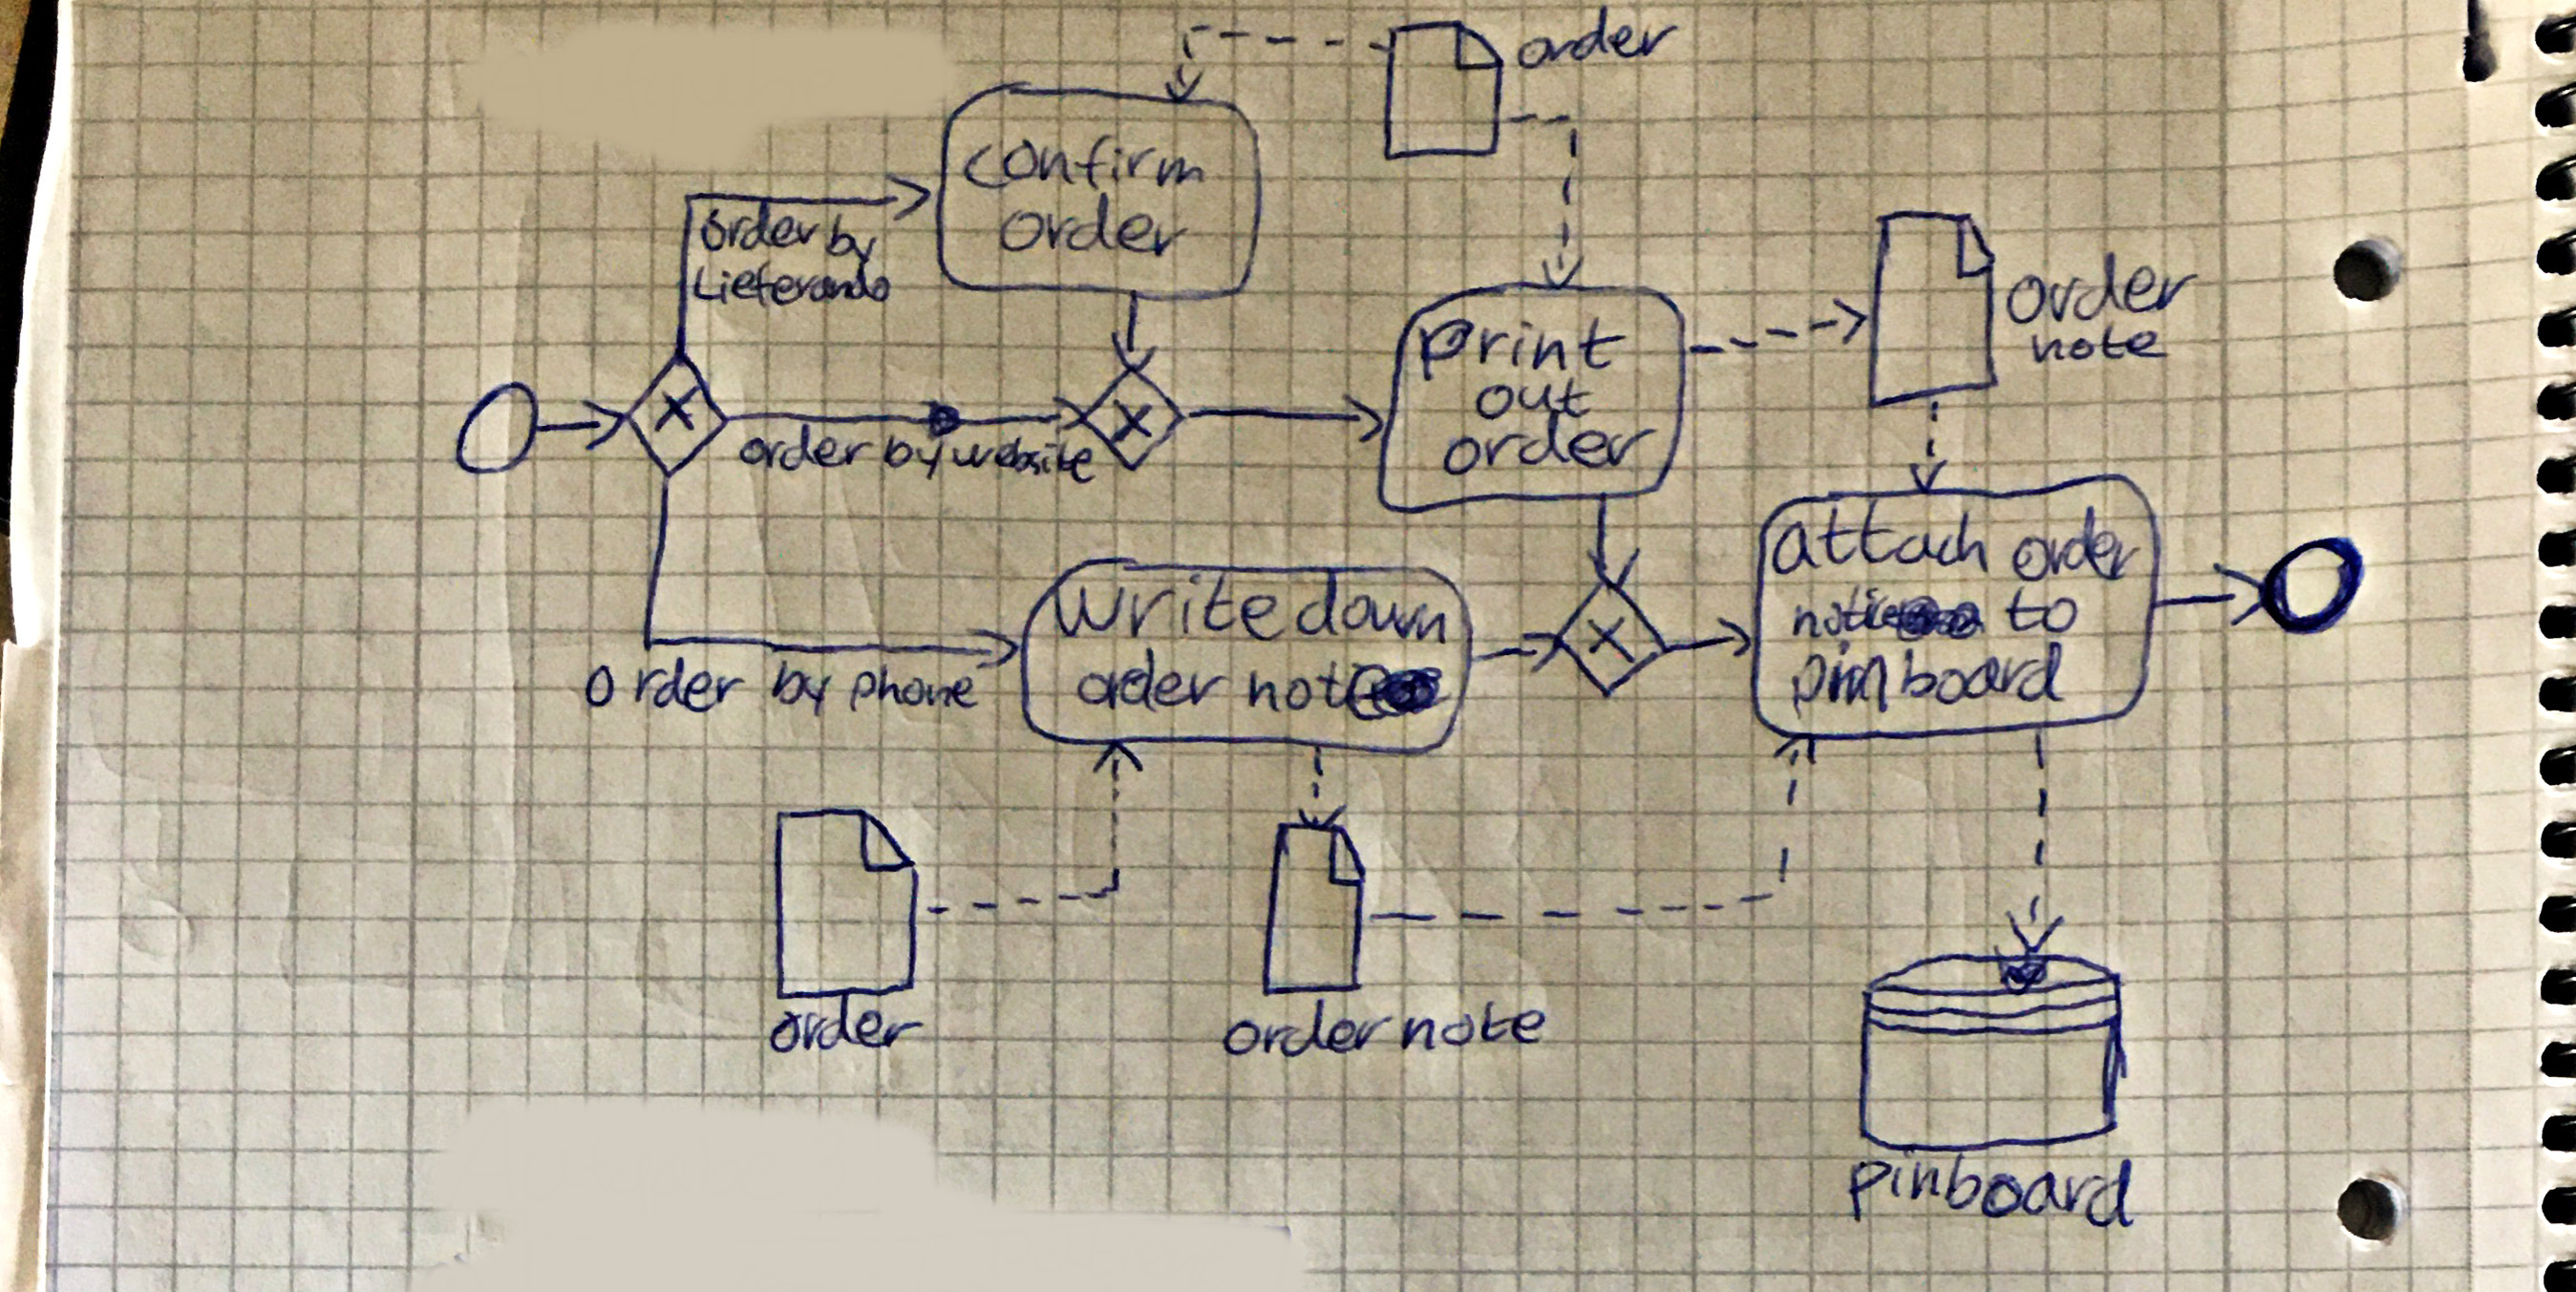Lieferando: (687, 262, 895, 308)
attach: (1768, 501, 1993, 578)
by: (770, 656, 836, 719), (883, 430, 948, 488), (827, 208, 878, 272)
confirm: (959, 130, 1205, 191)
down: (1292, 569, 1449, 641)
note: (1239, 656, 1389, 720), (1396, 997, 1549, 1055), (2024, 320, 2171, 367)
notice: (1787, 582, 1899, 643)
order: (1999, 244, 2200, 330), (1510, 2, 1681, 81), (1437, 417, 1660, 476), (994, 194, 1192, 257), (1075, 641, 1229, 717), (1218, 999, 1396, 1065), (760, 989, 931, 1056), (2012, 504, 2146, 585), (578, 651, 748, 714), (735, 417, 875, 476), (696, 203, 824, 257)
out: (1473, 374, 1597, 422)
phone: (849, 662, 977, 717)
pinboard: (1787, 636, 2068, 720), (1846, 1150, 2141, 1229)
print: (1416, 313, 1630, 379)
to: (2004, 580, 2083, 644)
website: (951, 432, 1098, 488)
write: (1043, 572, 1287, 644)
